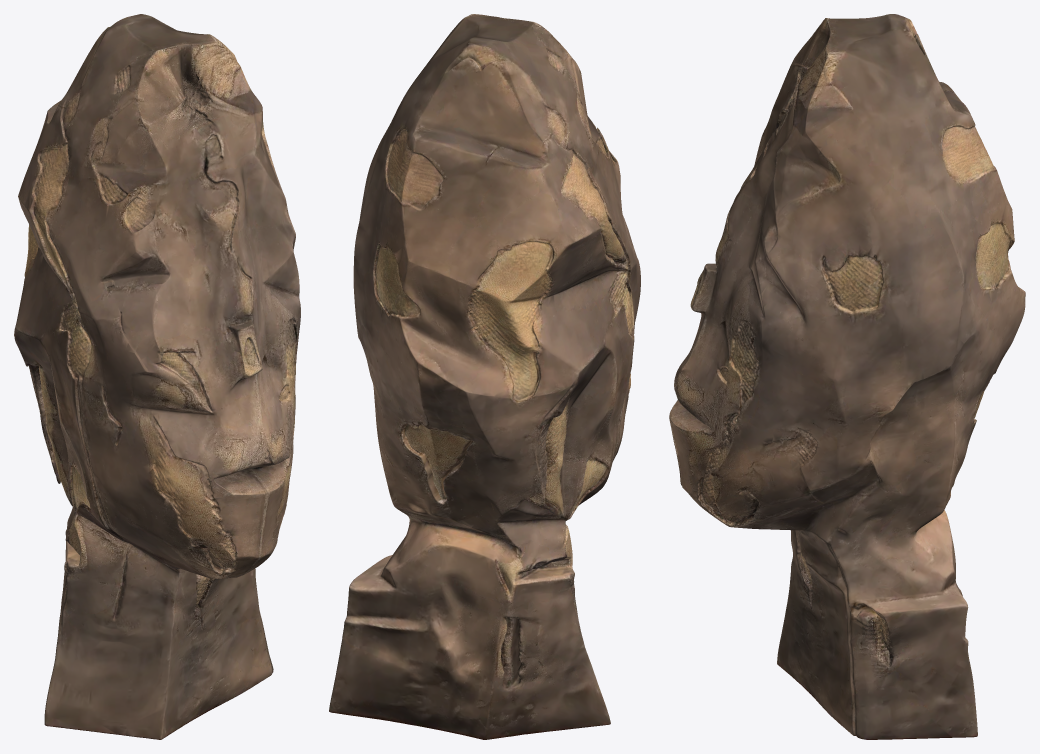
The model's file is shah-faceted-head.glb.
3 renders of one model, left to right at view 1: azimuth 30°, elevation 25°; view 2: azimuth 150°, elevation 25°; view 3: azimuth 270°, elevation 25°, orthographic.
Visible parts, largest first — view 1: mesh1; view 2: mesh1; view 3: mesh1.
Boxes of the visible parts, x1,y1,x2,y2 form: mesh1: (14,14,300,739); mesh1: (329,14,640,739); mesh1: (669,14,1025,739).
Size of the model in its own units: 0.6998 by 1.9 by 0.9291.
Materials: 1 (1 with a texture image).
